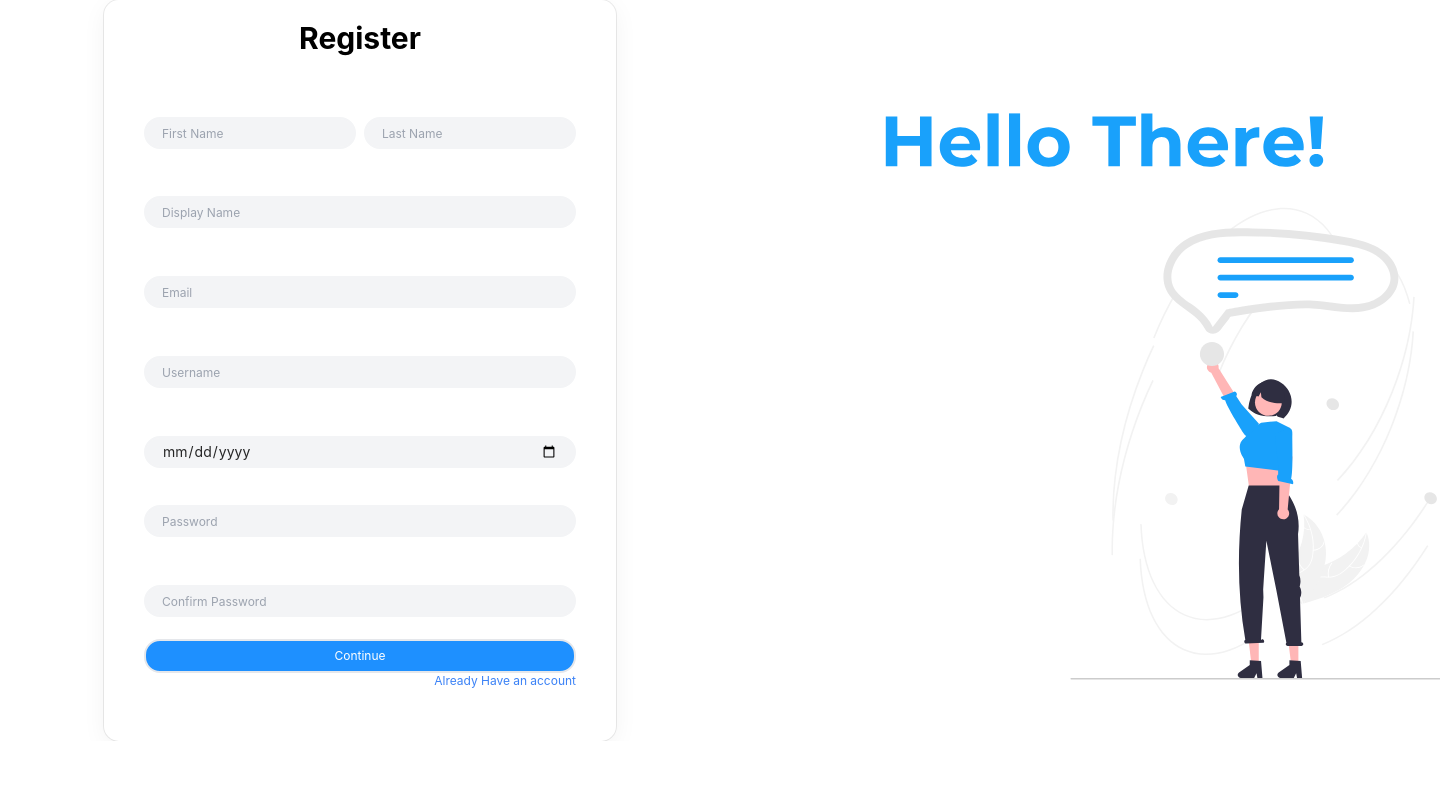
Login Page Test › Correctly Display
This screenshot has width=1440, height=810.
Step 1. Click the text "Already Have an account" → click(505, 681), box [434,673,576,689]
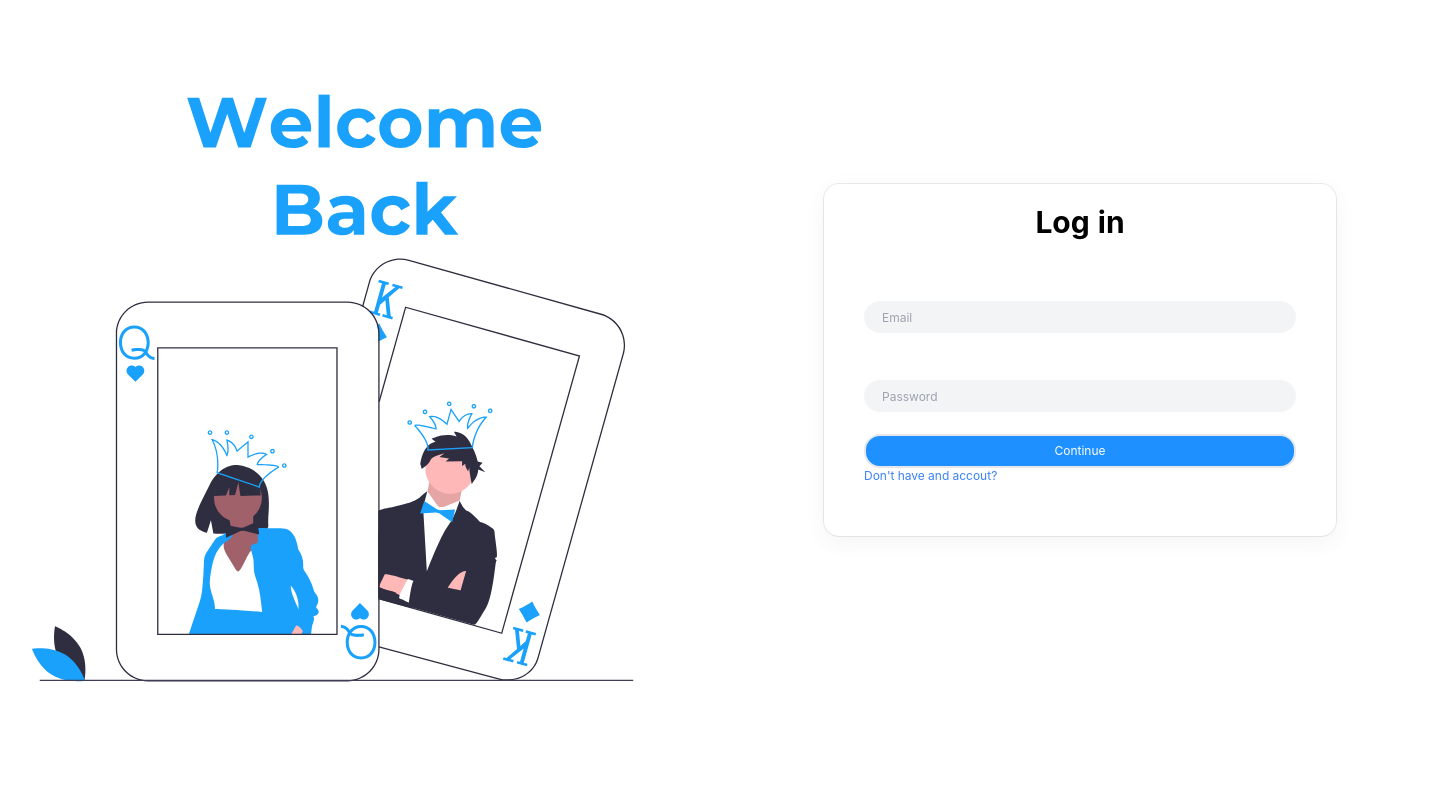
Result: the field with placeholder "Email" is shown at [864,300,1296,332]
Result: the password field with placeholder "Password" is shown at [864,380,1296,412]
